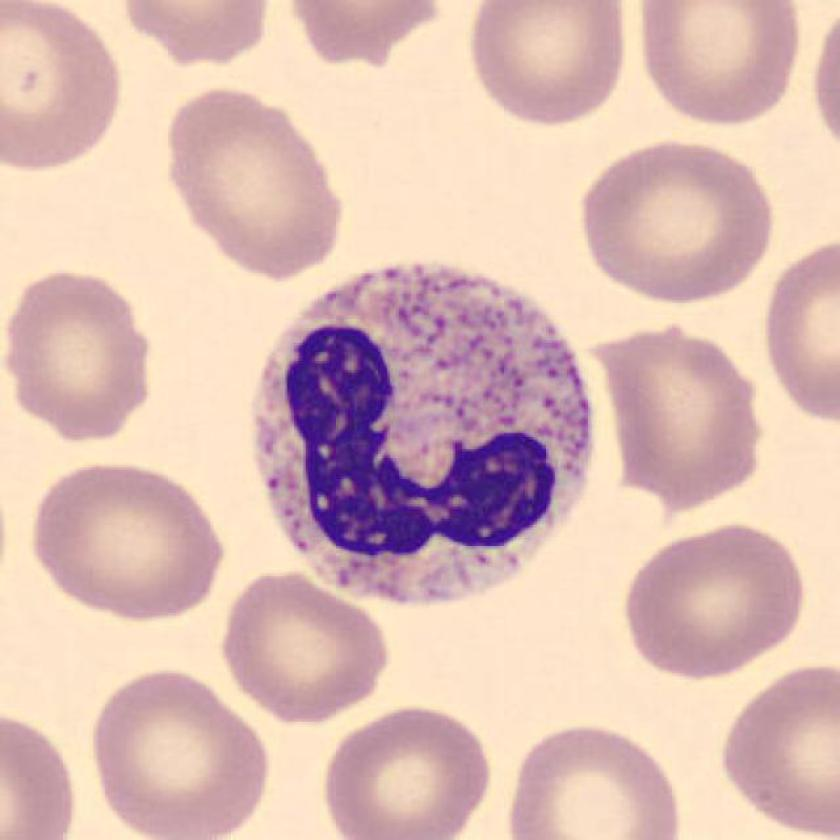neutrophil: (256, 267, 592, 605)
